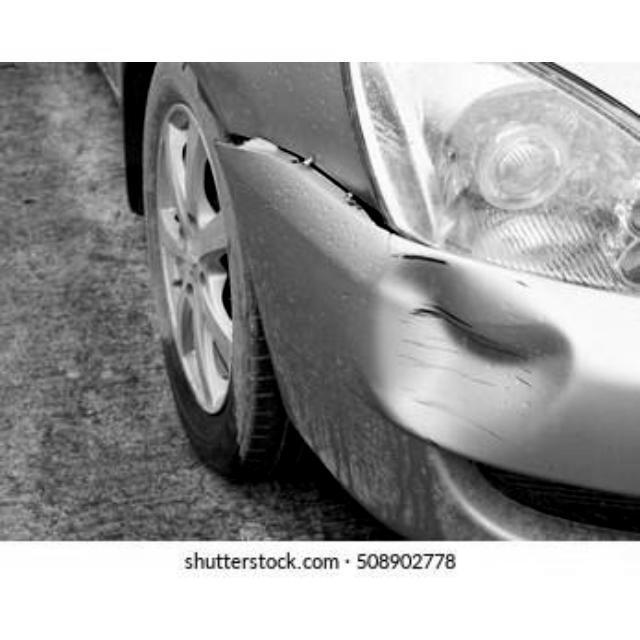front-bumper-dent: (224, 186, 638, 549)
